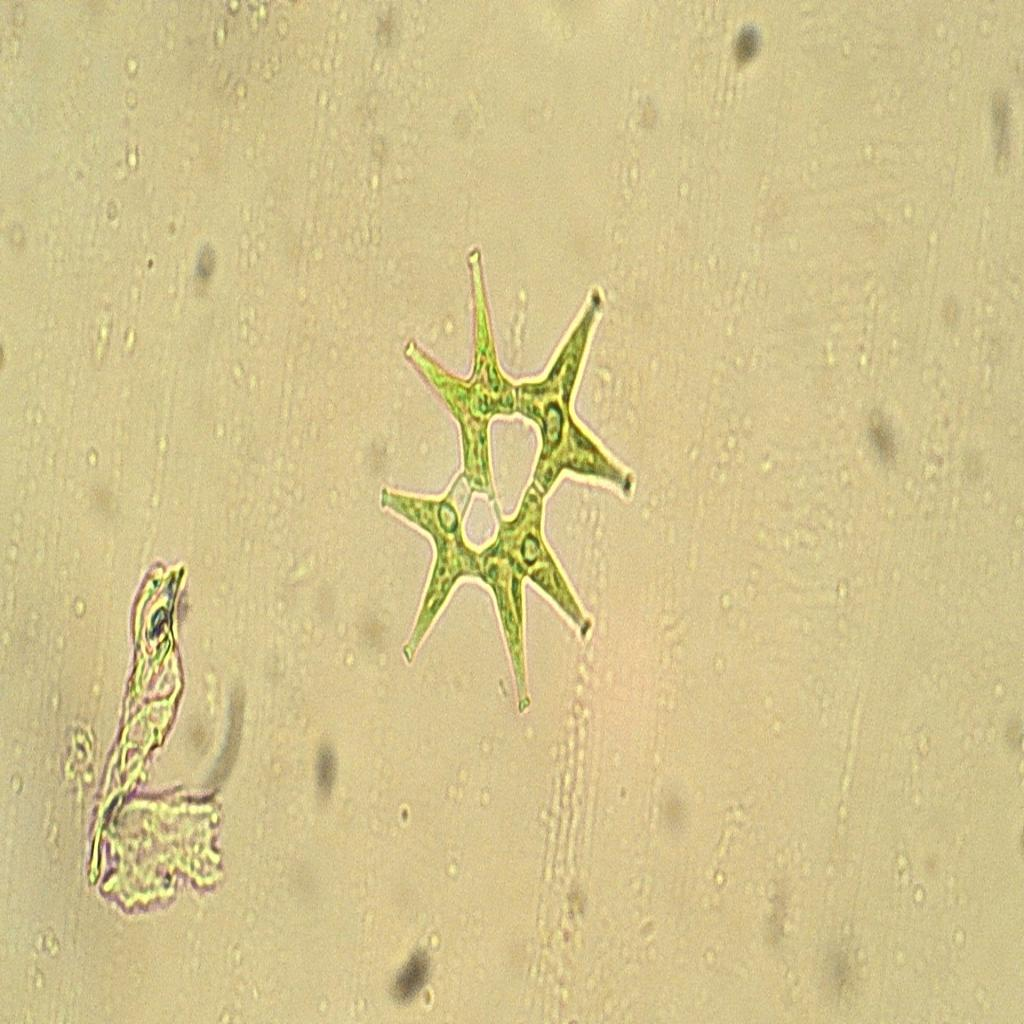Pediastrum_75FO: (372, 233, 638, 726)
